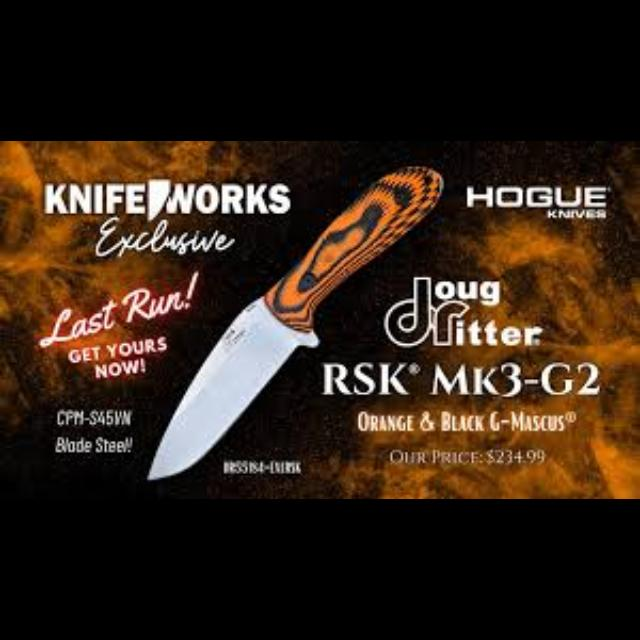Knife: (145, 165, 443, 480)
